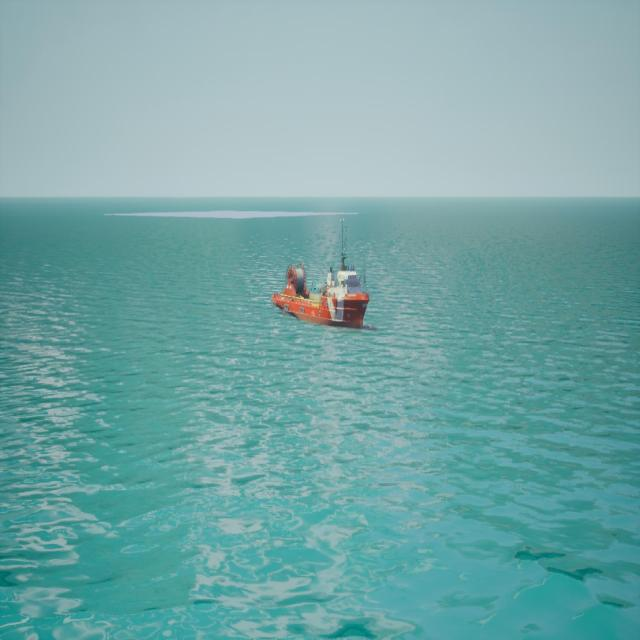tug boat: (273, 219, 374, 334)
